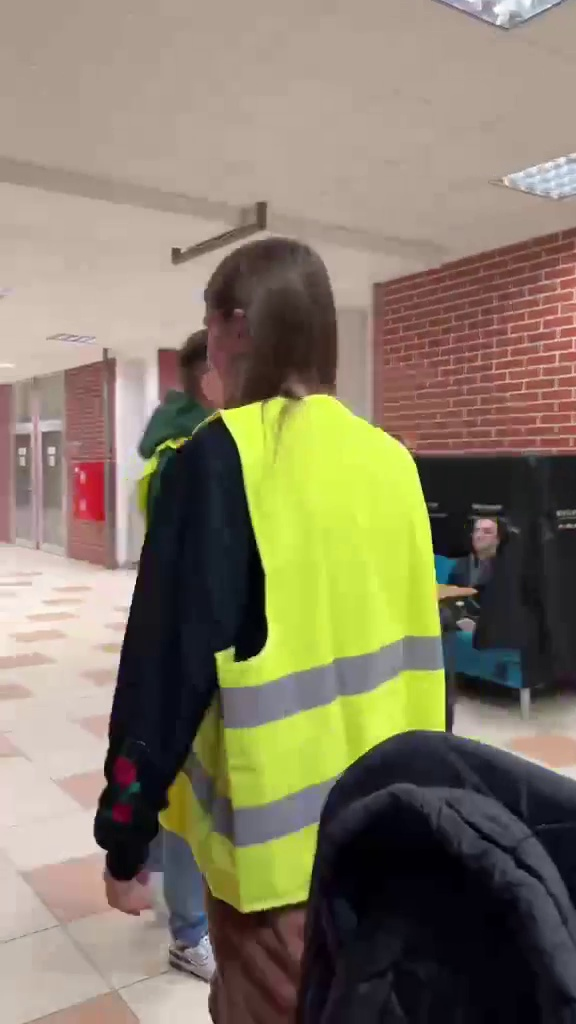vest: (108, 240, 455, 1007)
